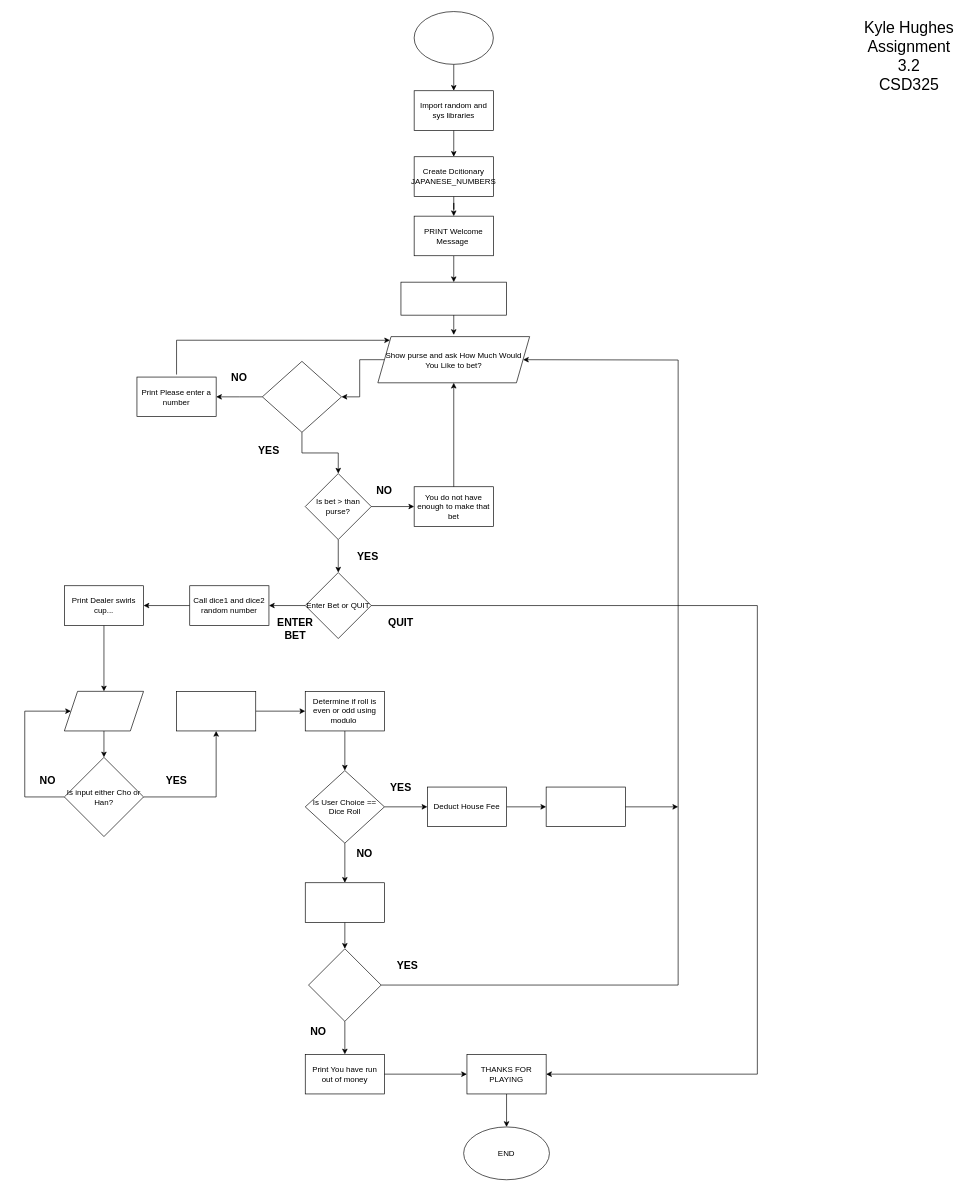
The diagram is 973 pixels wide and 1191 high, and some of its shapes have lost their labels. The shapes that lost their labels are listed below. From the top down, each one's box as (x1, y1, x2, y2) in pixels, then its label:
(413, 11, 493, 64): START
(400, 281, 507, 315): Set Purse 5000
(262, 361, 342, 432): Is pot an integer?
(64, 691, 144, 731): Input Cho or Han?
(176, 691, 256, 731): Print Japanese Numbers and regular integers
(545, 786, 625, 827): Print You Won and display winnings
(305, 882, 384, 922): You Lost
(308, 948, 381, 1021): Is remaining purse == 0
